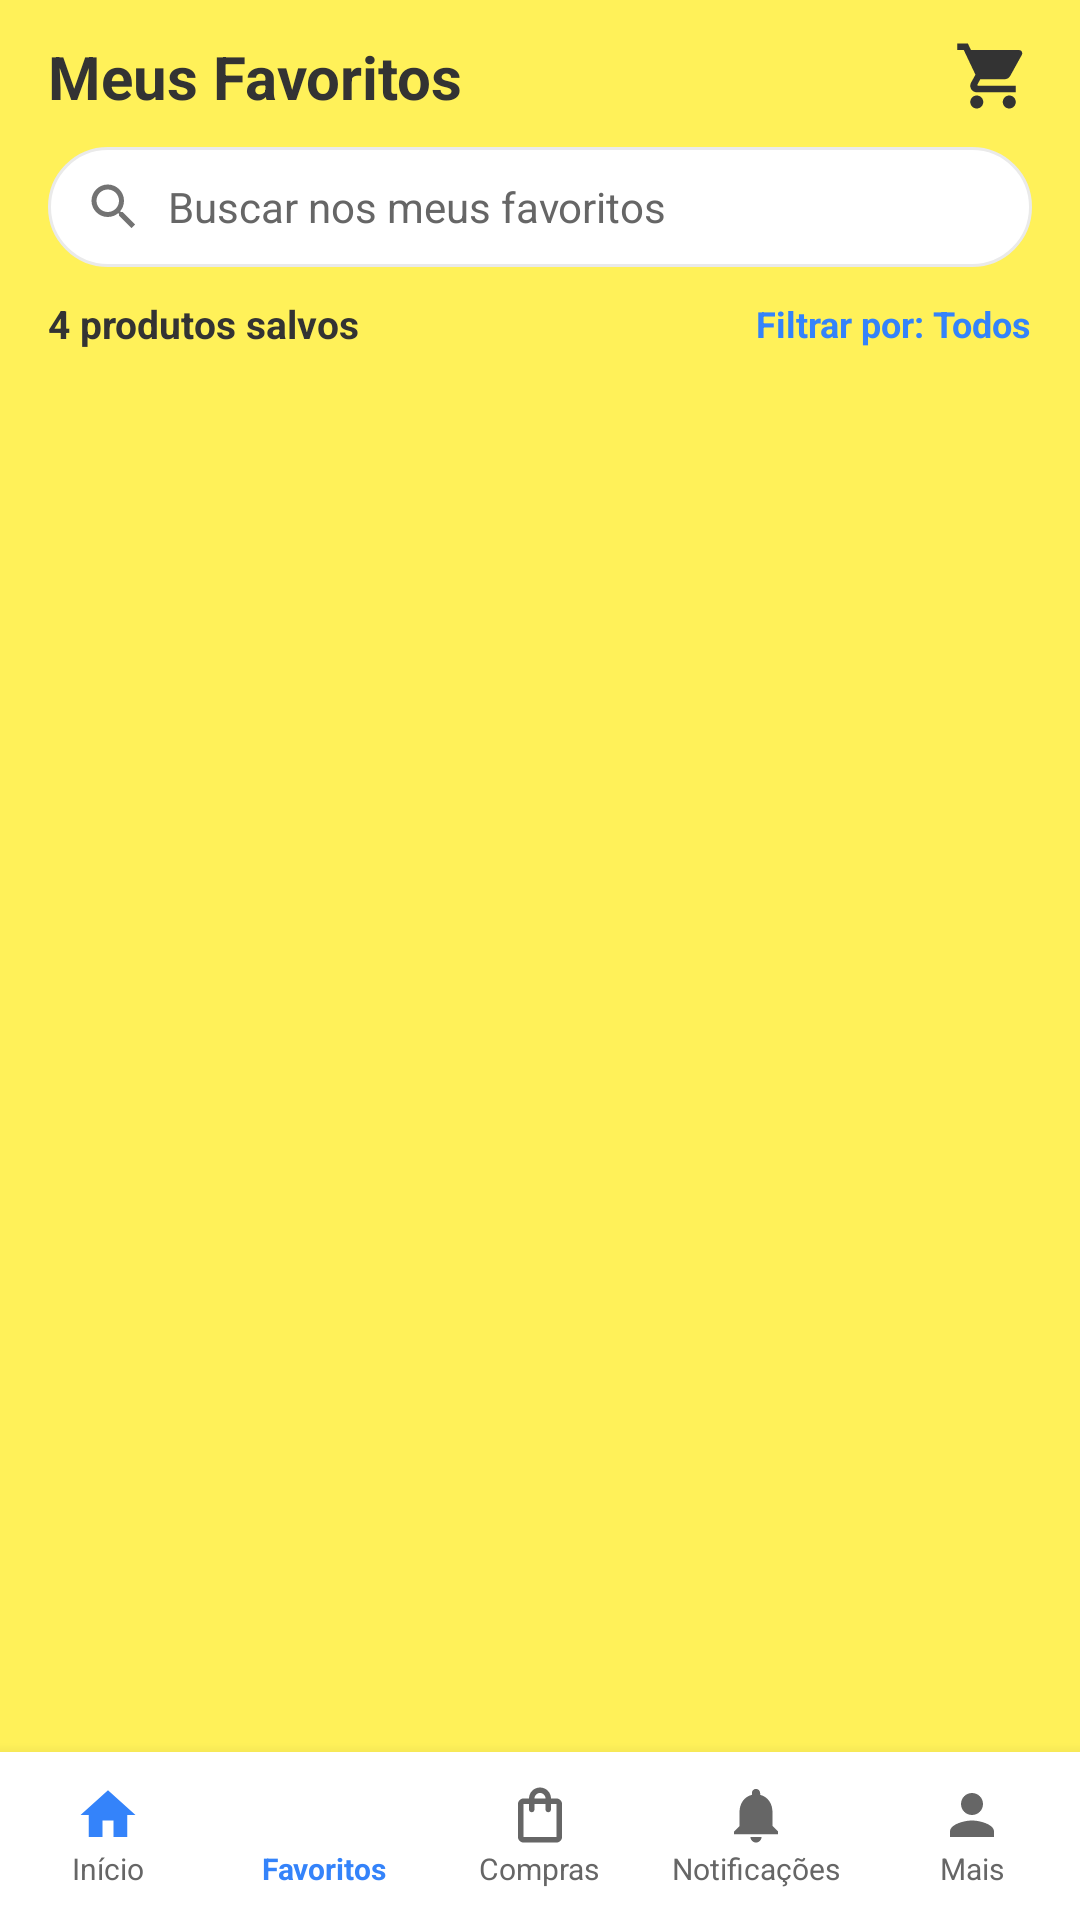

Where to tap for icons on this 1080 × 1920 app screen, as (x=x, y=y):
Carrinho: (x=990, y=76)
